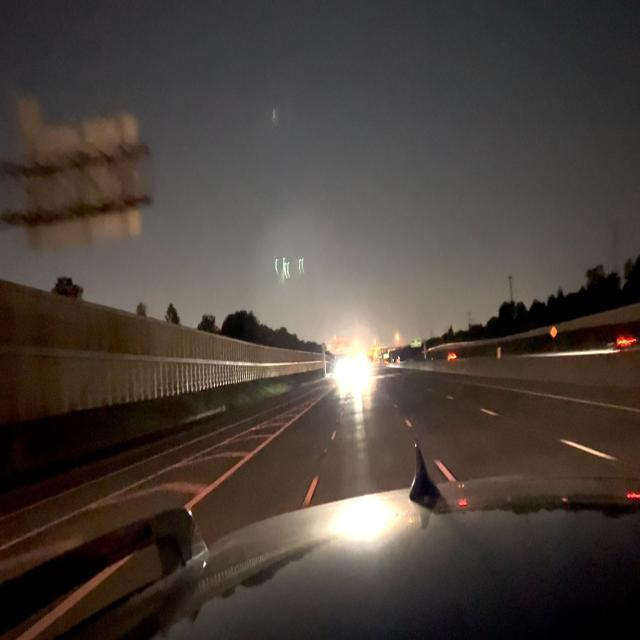back-of-sign: (22, 123, 138, 236), (19, 106, 37, 133)
